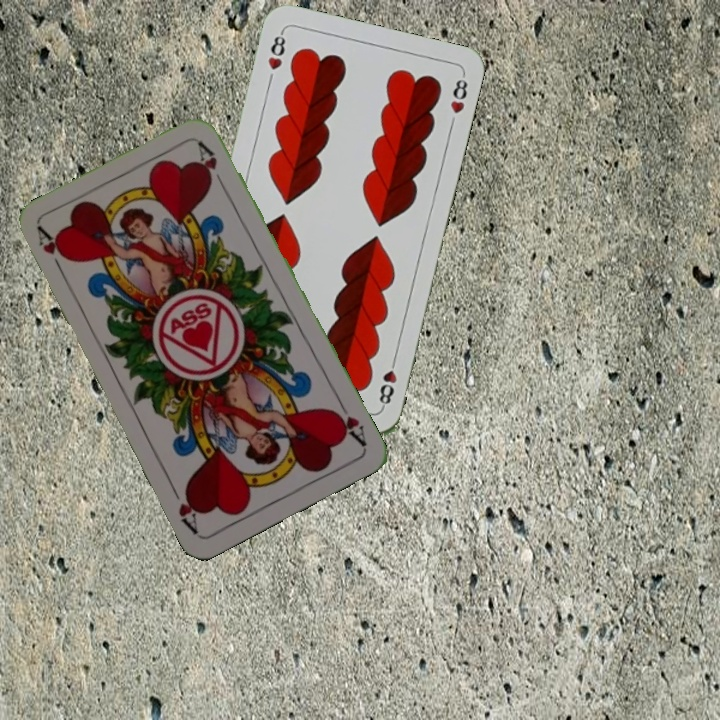H8: (375, 353, 400, 411), (263, 27, 288, 73)
HA: (328, 395, 369, 449), (33, 223, 70, 279)
